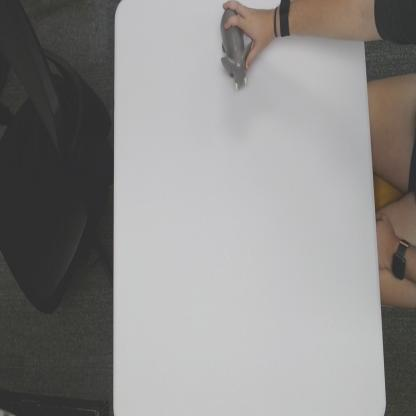Elephant: (220, 5, 254, 92)
Hand: (232, 0, 270, 73)
